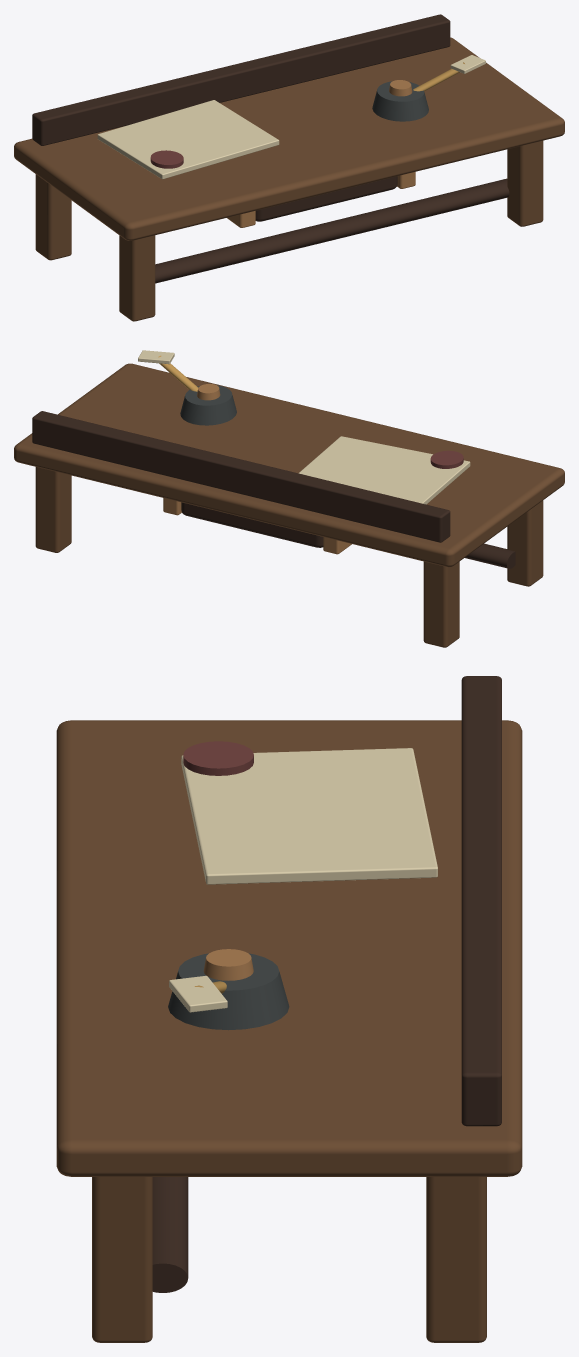
Rendered from detail_writing_desk.glb.
3 renders of one model, top to bottom at view 1: azimuth 30°, elevation 25°; view 2: azimuth 150°, elevation 25°; view 3: azimuth 270°, elevation 25°, orthographic. The views are drawn at different scales.
Parts seen in each view (by area): view 1: wood; view 2: wood; view 3: wood.
Boxes of the visible parts, x1=… form: wood: x1=14, y1=14, x2=564, y2=321; wood: x1=14, y1=350, x2=564, y2=647; wood: x1=56, y1=676, x2=522, y2=1342.
Bounding box in the file's own units: 2.4 × 0.8 × 1.1.
